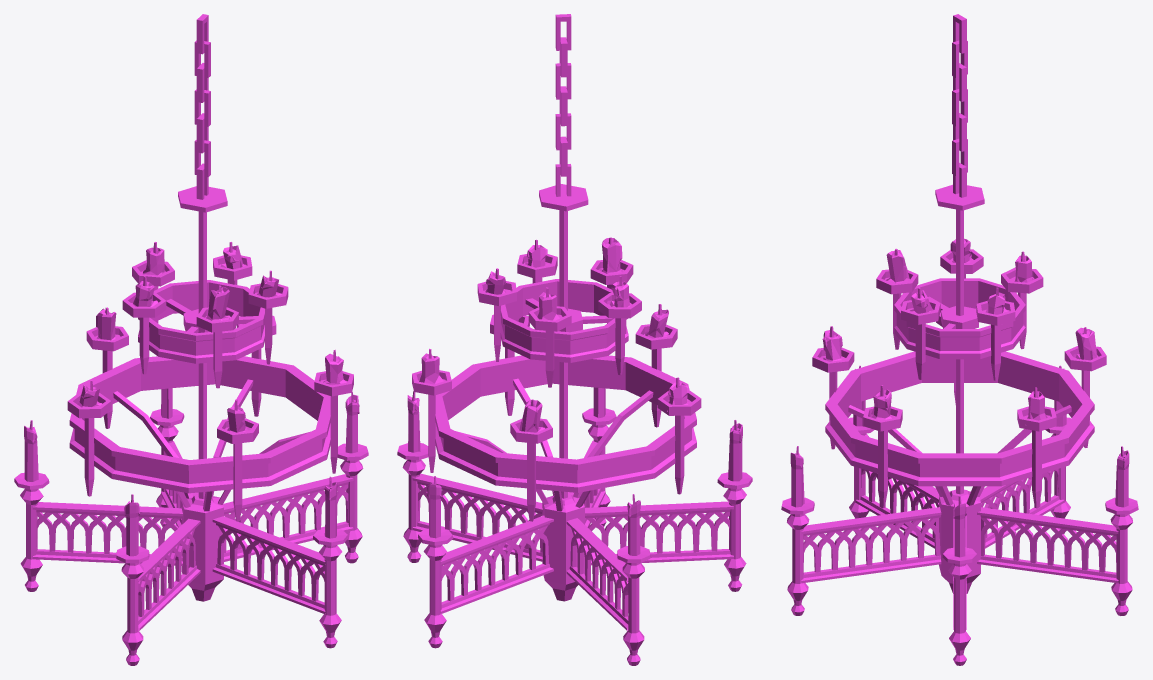
The model's file is SM_Chandelier_Candle_D_Unlit_Fantasy.fbx.
The picture shows the model from 3 angles, left to right: view 1: azimuth 30°, elevation 25°; view 2: azimuth 150°, elevation 25°; view 3: azimuth 270°, elevation 25°; orthographic projection.
Visible parts, largest first — view 1: SM_Chandelier_Candle_D_Unlit_Fantasy; view 2: SM_Chandelier_Candle_D_Unlit_Fantasy; view 3: SM_Chandelier_Candle_D_Unlit_Fantasy.
Boxes of the visible parts, x1,y1,x2,y2 form: SM_Chandelier_Candle_D_Unlit_Fantasy: (14, 14, 368, 665); SM_Chandelier_Candle_D_Unlit_Fantasy: (397, 14, 752, 665); SM_Chandelier_Candle_D_Unlit_Fantasy: (781, 14, 1138, 665).
Size of the model in its own units: 1.44 by 2.66 by 1.5.
